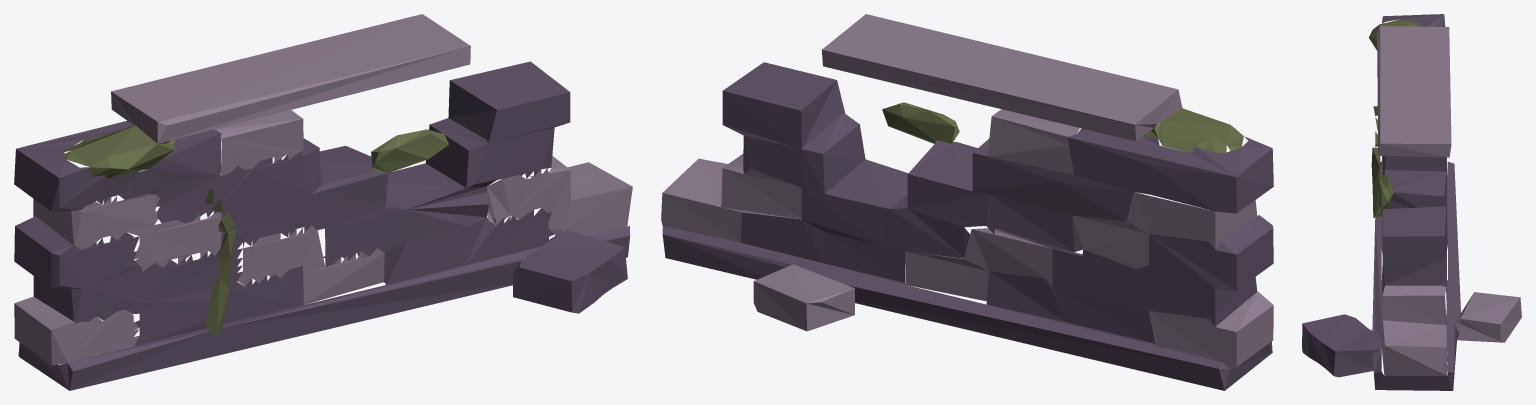
The model's file is wall_ruin.glb.
The picture shows the model from 3 angles, left to right: view 1: azimuth 30°, elevation 25°; view 2: azimuth 150°, elevation 25°; view 3: azimuth 270°, elevation 25°; orthographic projection. The views are drawn at different scales.
Visible parts, largest first — view 1: wall_ruin; view 2: wall_ruin; view 3: wall_ruin.
Boxes of the visible parts, bbox=[...] form: wall_ruin: bbox=[14, 14, 632, 390]; wall_ruin: bbox=[661, 14, 1273, 390]; wall_ruin: bbox=[1302, 14, 1521, 390].
Size of the model in its own units: 3.5 by 1.43 by 1.5.
